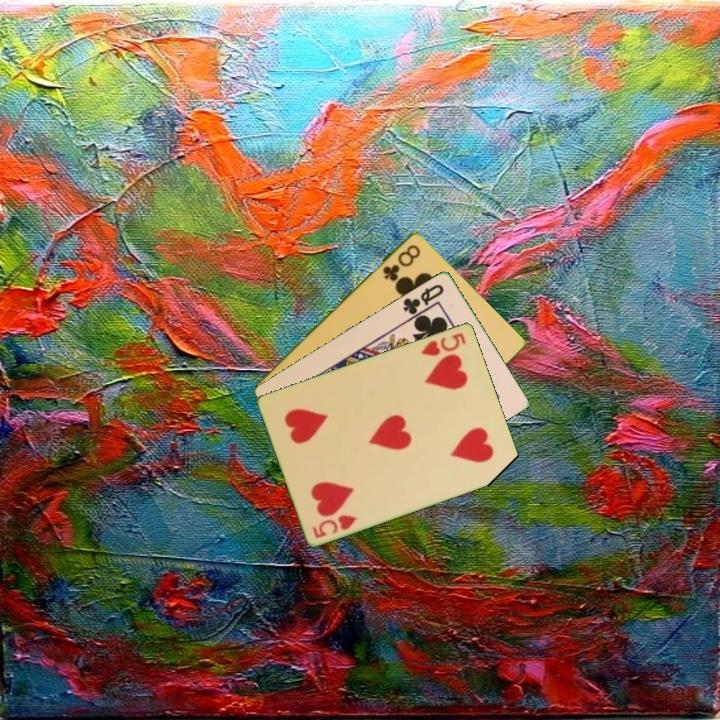5h: (418, 329, 469, 359), (309, 511, 360, 541)
8c: (379, 240, 424, 284)
Qc: (399, 280, 447, 317)
